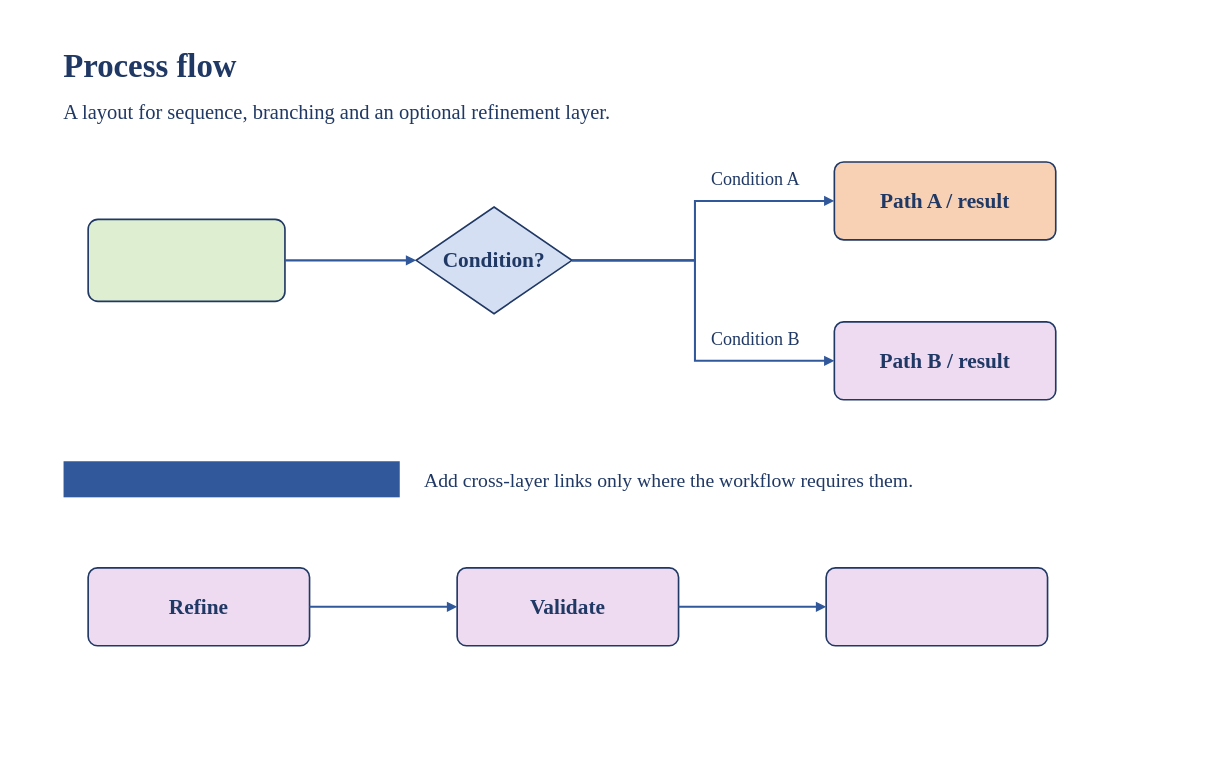
The diagram is 1209 pixels wide and 766 high, and some of its shapes have lost their labels. The shapes that lost their labels are listed below. From the top down, each one's centre as x and y in pixels, then its label:
(186,260): Input / stage
(231,479): Optional refinement layer
(936,606): Deliver
